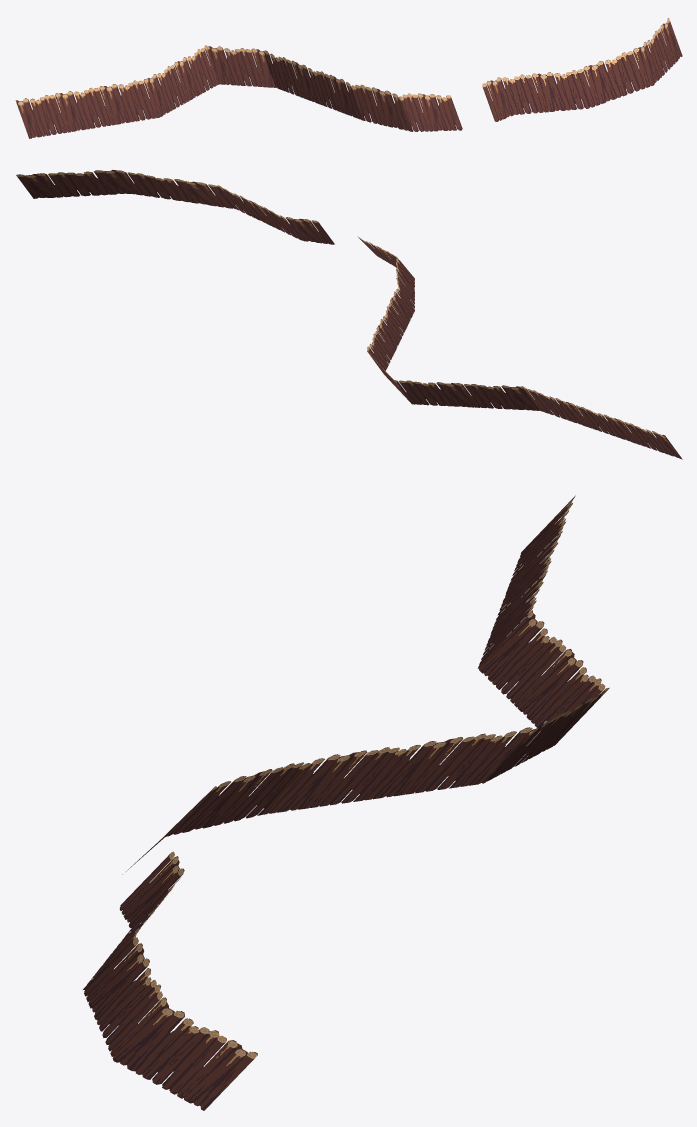
The model's file is WoodWall.fbx.
3 views of the same model, one above another, from view 1: azimuth 30°, elevation 25°; view 2: azimuth 150°, elevation 25°; view 3: azimuth 270°, elevation 25° (orthographic). The views are drawn at different scales.
Visible parts, largest first — view 1: Cylinder001; view 2: Cylinder001; view 3: Cylinder001.
Boxes of the visible parts, x1,y1,x2,y2 form: Cylinder001: (15,18,682,138); Cylinder001: (16,170,682,459); Cylinder001: (83,495,609,1110).
Bounding box in the file's own units: 136 × 7.21 × 54.8.
Materials: 1 (1 with a texture image).
